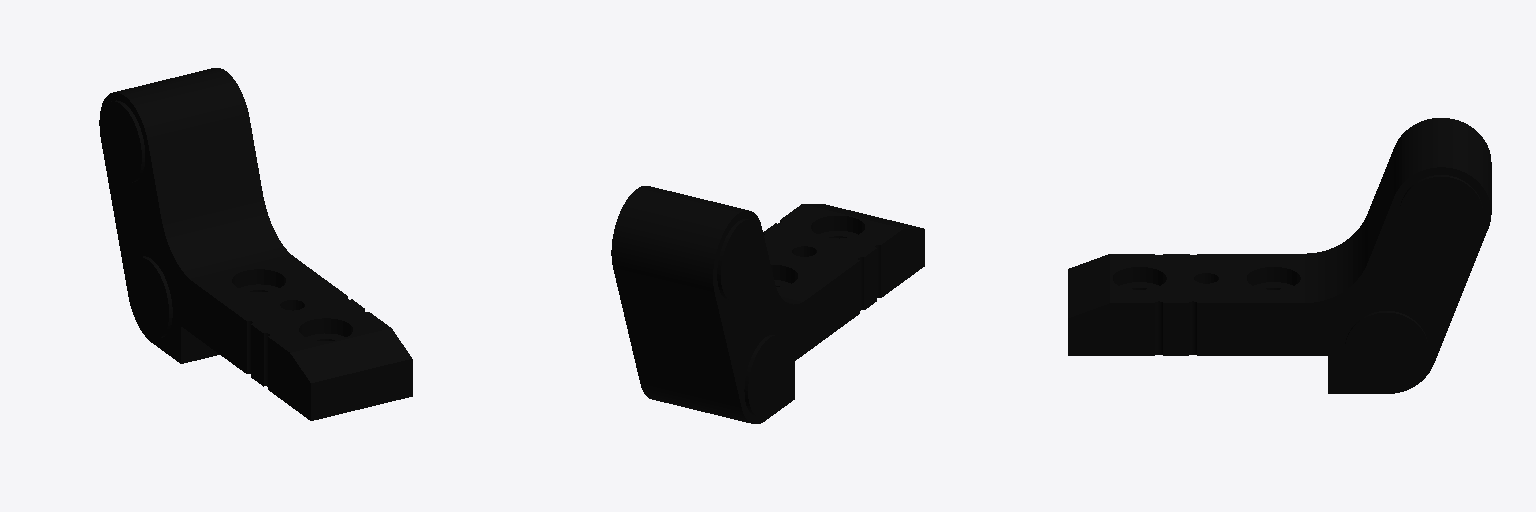
The model's file is robotiq_arg2f_85_inner_finger.obj.
The picture shows the model from 3 angles: view 1: azimuth 30°, elevation 25°; view 2: azimuth 150°, elevation 25°; view 3: azimuth 270°, elevation 25°; orthographic projection.
Visible parts, largest first — view 1: geometry0; view 2: geometry0; view 3: geometry0.
Part boxes in pixels (x1,y1,x2,y2): geometry0: (99,68,412,420); geometry0: (611,186,924,423); geometry0: (1068,118,1491,393).
Bounding box in the file's own units: 0.015 × 0.0299 × 0.0505.